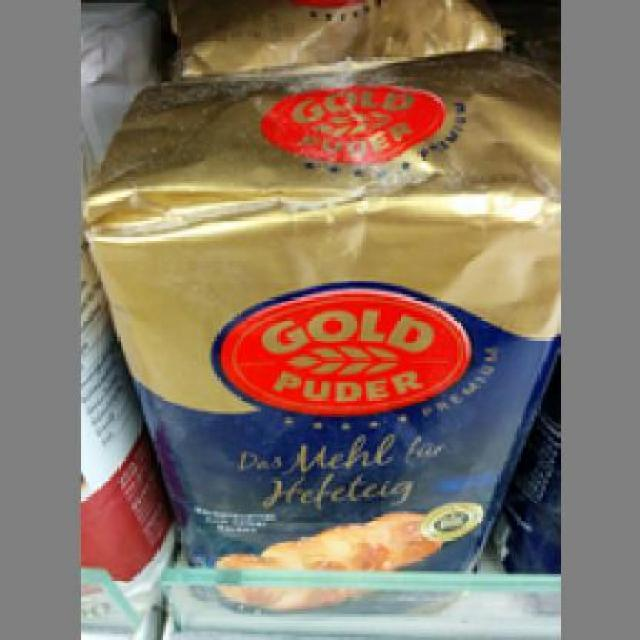Flour: (83, 60, 560, 606)
